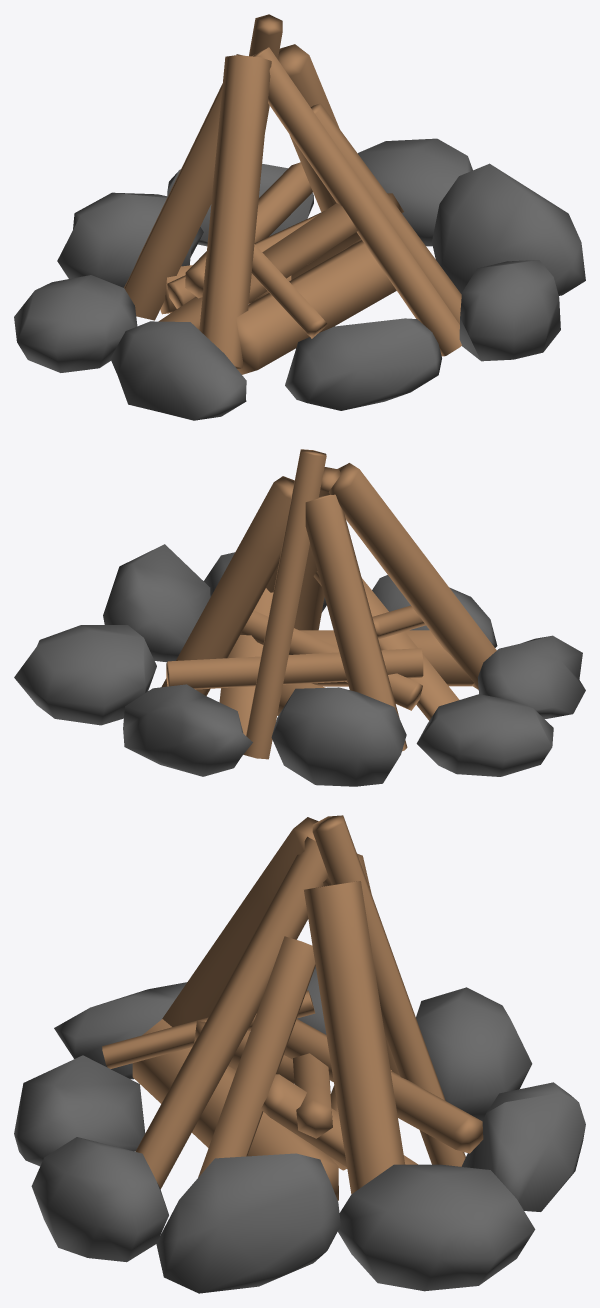
The model's file is fogata2.fbx.
3 views of the same model, one above another, from view 1: azimuth 30°, elevation 25°; view 2: azimuth 150°, elevation 25°; view 3: azimuth 270°, elevation 25° (orthographic). The views are drawn at different scales.
Parts seen in each view (by area): view 1: pPlatonic25; view 2: pPlatonic25; view 3: pPlatonic25.
Boxes of the visible parts, box(x1,y1,x2,y2) form: pPlatonic25: box(14, 14, 585, 420); pPlatonic25: box(14, 449, 585, 786); pPlatonic25: box(14, 815, 585, 1293).
Size of the model in its own units: 4.52 by 2.62 by 3.74.
